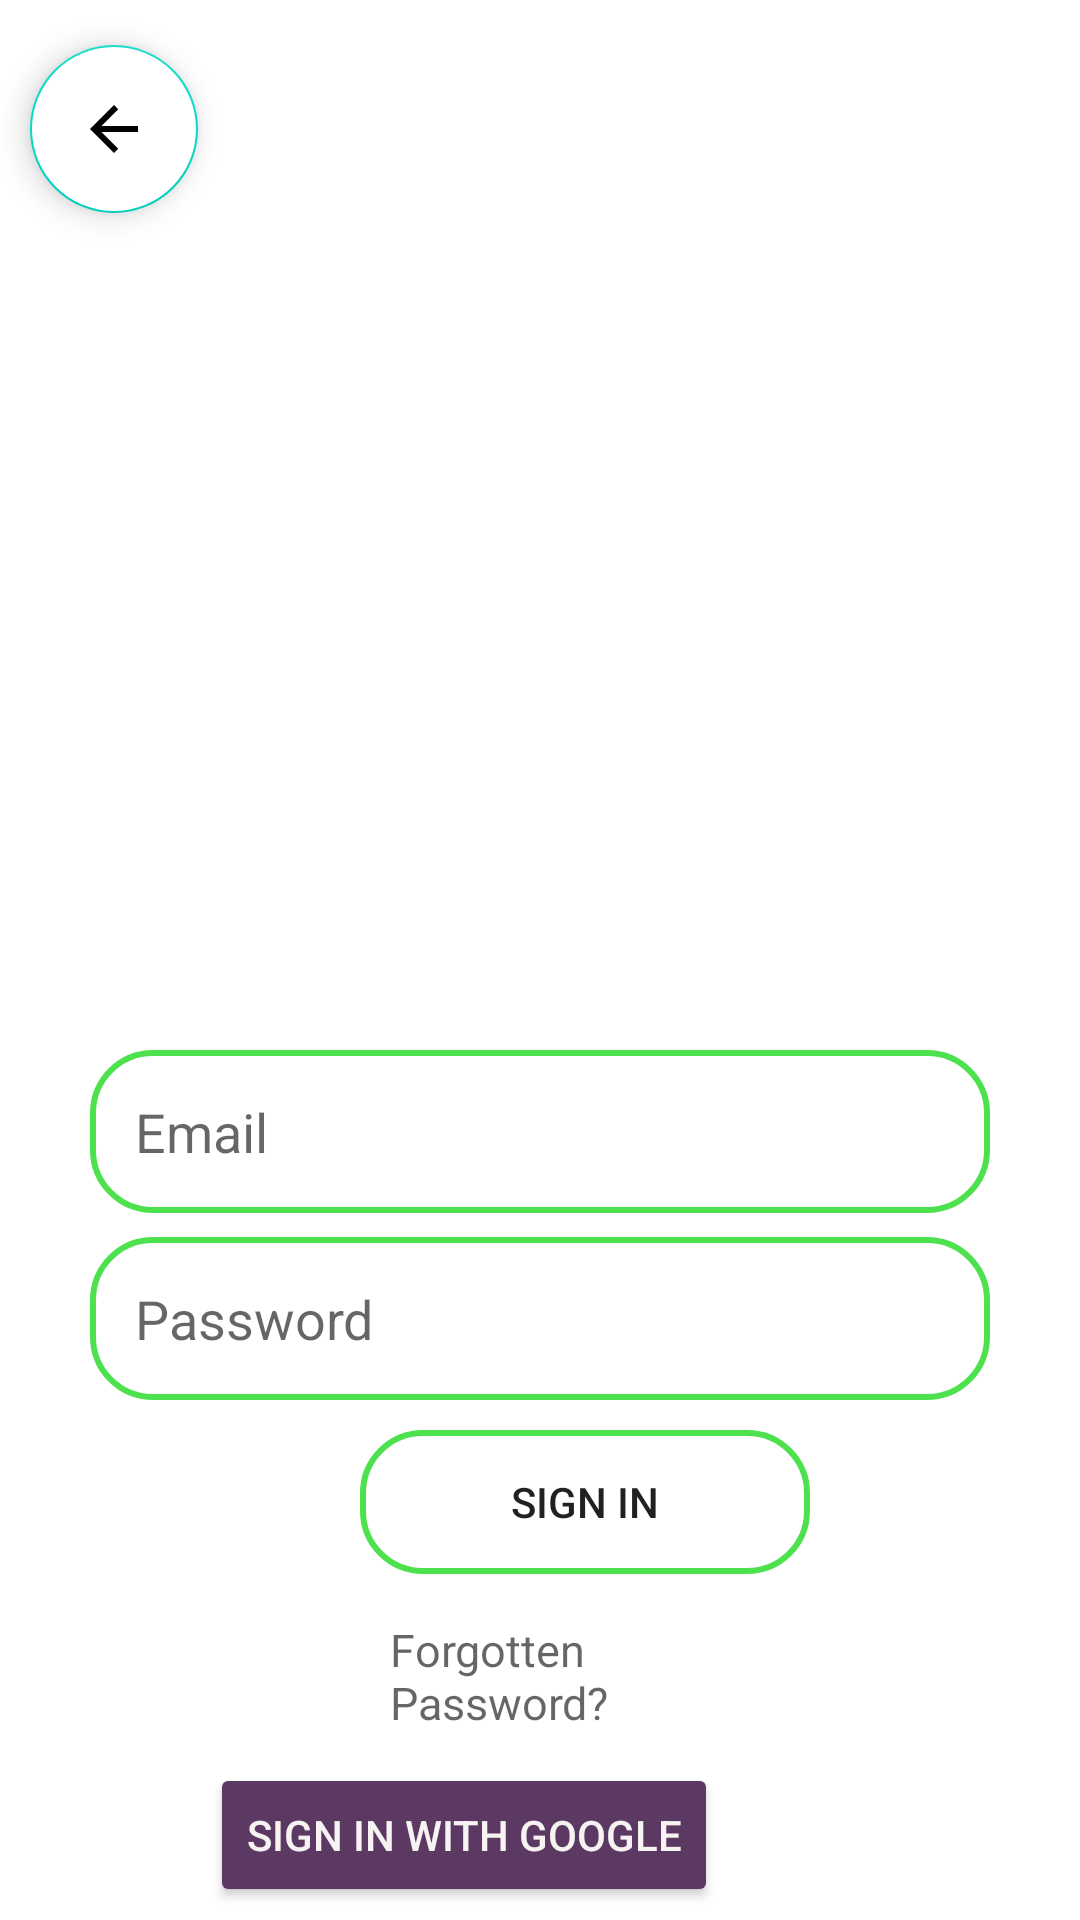

Locate icon controls on the screen. Image size 1080x1920, boxes as {"left": x1, "top": y1, "right": x2, "bottom": y2}.
arrow back: {"left": 30, "top": 45, "right": 198, "bottom": 213}
